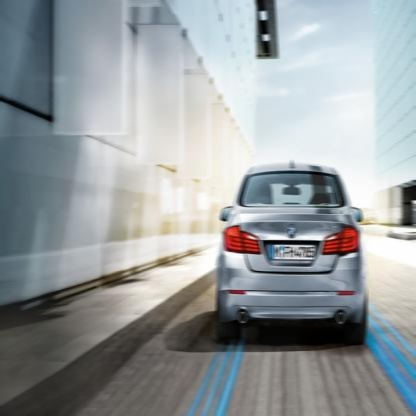Vehicle: (216, 160, 369, 347)
